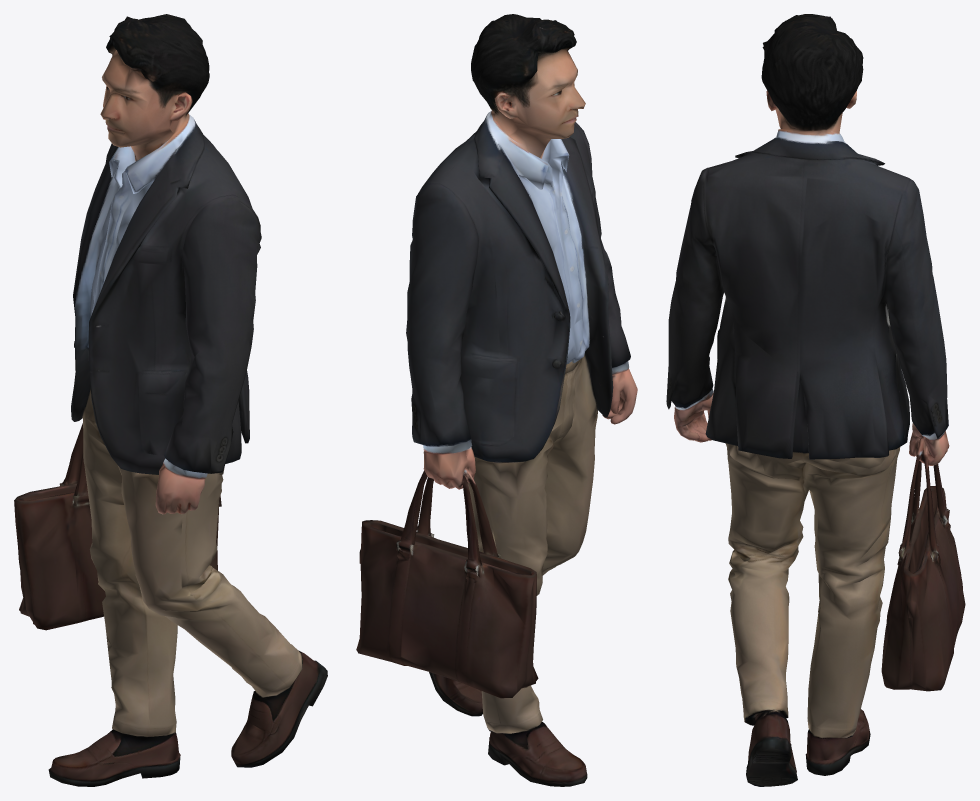
File: person-business-m02.glb
The picture shows the model from 3 angles, left to right: view 1: azimuth 30°, elevation 25°; view 2: azimuth 150°, elevation 25°; view 3: azimuth 270°, elevation 25°; orthographic projection. The views are drawn at different scales.
Parts seen in each view (by area): view 1: JPGV01_M02_L10k; view 2: JPGV01_M02_L10k; view 3: JPGV01_M02_L10k.
Part boxes in pixels (x1=…): JPGV01_M02_L10k: x1=14, y1=14, x2=327, y2=786; JPGV01_M02_L10k: x1=356, y1=14, x2=637, y2=786; JPGV01_M02_L10k: x1=666, y1=14, x2=965, y2=786.
Size of the model in its own units: 0.5798 by 1.8 by 0.6605.
Materials: 1 (1 with a texture image).
